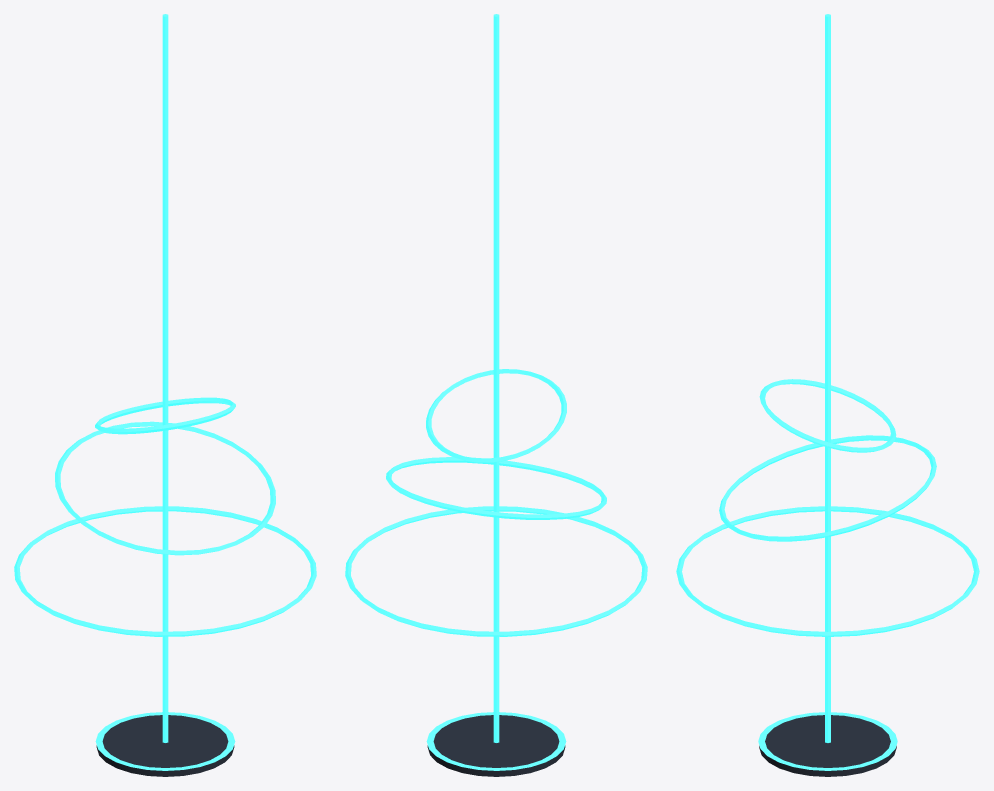
3 renders of one model, left to right at view 1: azimuth 30°, elevation 25°; view 2: azimuth 150°, elevation 25°; view 3: azimuth 270°, elevation 25°, orthographic.
Visible parts, largest first — view 1: nexo_beacon.lod1; view 2: nexo_beacon.lod1; view 3: nexo_beacon.lod1.
Part boxes in pixels (<box>): nexo_beacon.lod1: <box>14,14,316,776</box>; nexo_beacon.lod1: <box>345,14,647,776</box>; nexo_beacon.lod1: <box>676,14,979,776</box>.
Bounding box in the file's own units: 5.3 × 14.12 × 5.3.
